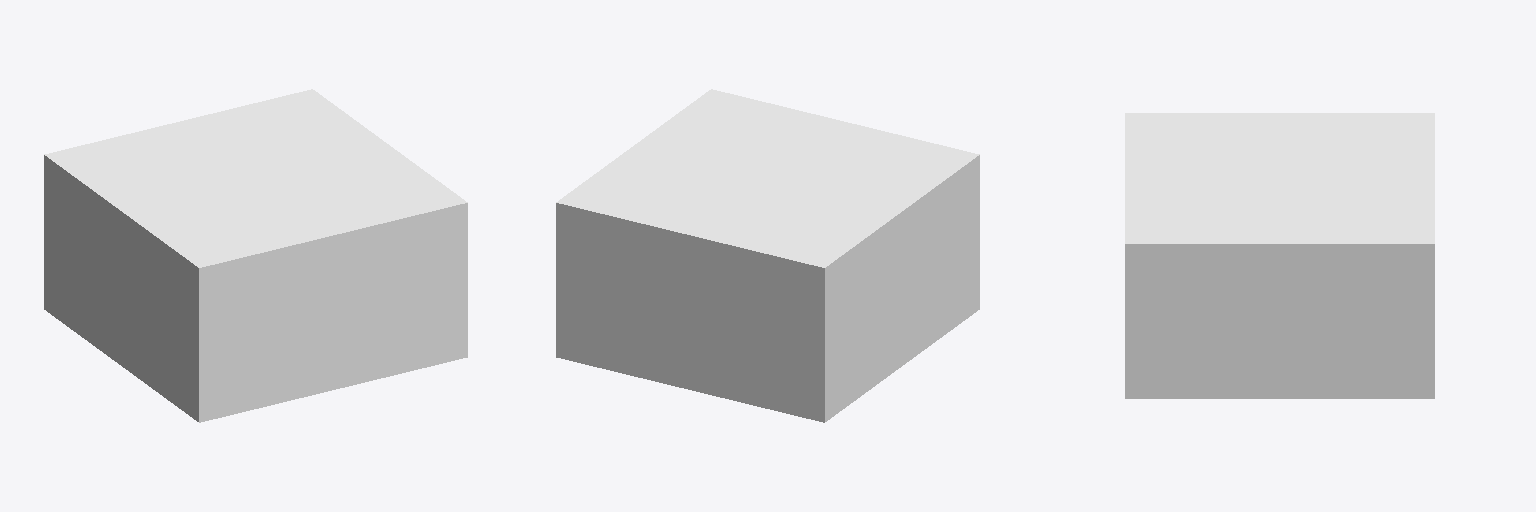
Rendered from Club.obj.
3 renders of one model, left to right at view 1: azimuth 30°, elevation 25°; view 2: azimuth 150°, elevation 25°; view 3: azimuth 270°, elevation 25°, orthographic.
Parts seen in each view (by area): view 1: object 1; view 2: object 1; view 3: object 1.
Part boxes in pixels (left/top/right/bottom): object 1: left=44, top=89, right=467, bottom=422; object 1: left=556, top=89, right=979, bottom=422; object 1: left=1125, top=113, right=1434, bottom=398.
Size of the model in its own units: 4 by 2.2 by 4.